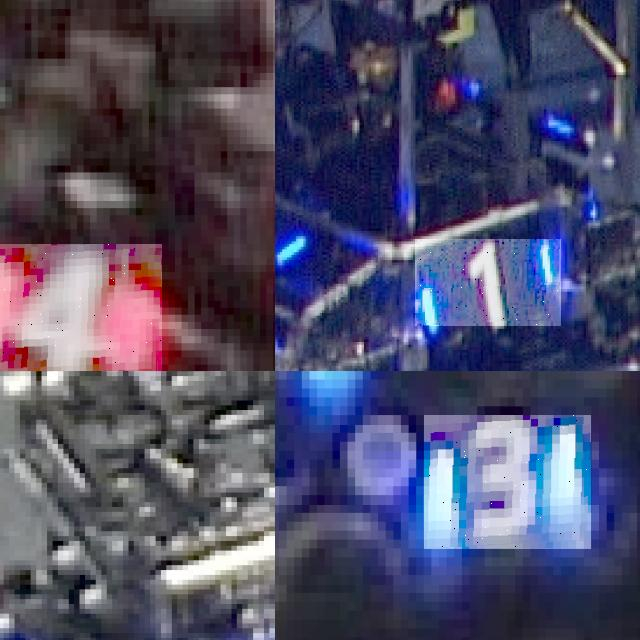B1: (415, 239, 561, 326), (275, 179, 311, 263)
B3: (424, 415, 591, 549)
R4: (0, 244, 161, 371)
